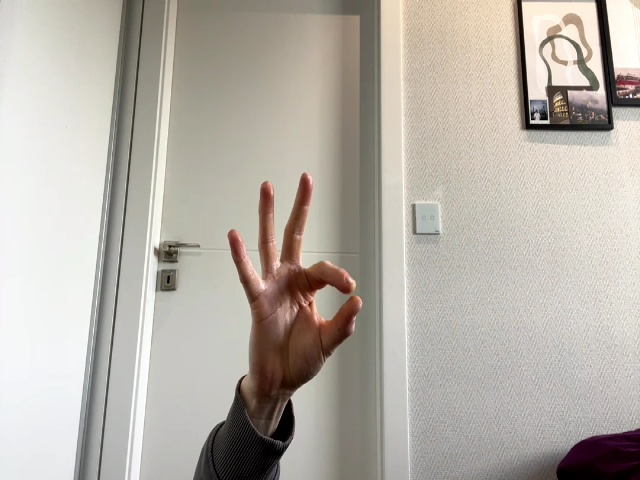O: (228, 173, 361, 391)
